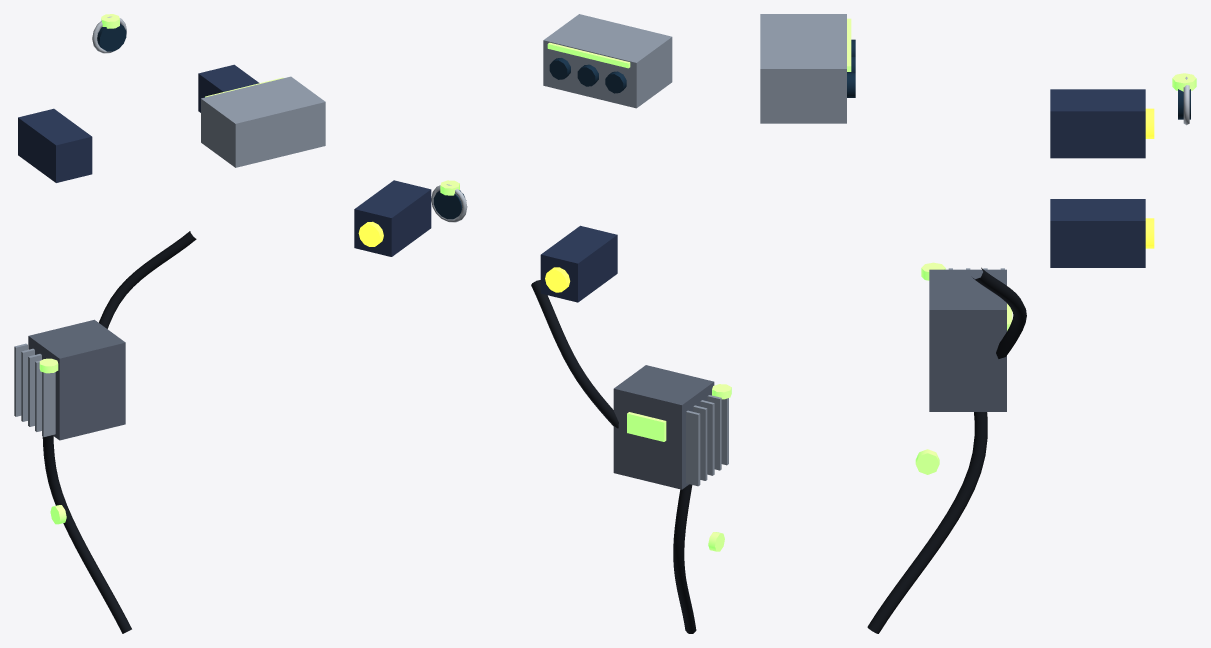
File: tower_detector_analysis_s8.glb
3 views of the same model, side by side, from view 1: azimuth 30°, elevation 25°; view 2: azimuth 150°, elevation 25°; view 3: azimuth 270°, elevation 25° (orthographic). The views are drawn at different scales.
Parts seen in each view (by area): view 1: detector_cluster, detector_recorder, detector_mark_projector_b, detector_recorder_fins, detector_harness_b, detector_harness_a, detector_mark_projector, detector_analysis_lens; view 2: detector_recorder, detector_cluster, detector_mark_projector_b, detector_mark_projector, detector_recorder_fins, detector_harness_a, detector_harness_b, detector_recorder_face, detector_analysis_lens, detector_cluster_bar; view 3: detector_recorder, detector_cluster, detector_mark_projector_b, detector_mark_projector, detector_harness_b, detector_harness_a.
Part boxes in pixels (x1=…): detector_cluster: x1=201, y1=76, x2=325, y2=167; detector_recorder: x1=28, y1=319, x2=125, y2=440; detector_mark_projector_b: x1=18, y1=108, x2=92, y2=182; detector_recorder_fins: x1=14, y1=343, x2=55, y2=436; detector_harness_b: x1=42, y1=435, x2=131, y2=633; detector_harness_a: x1=99, y1=231, x2=196, y2=328; detector_mark_projector: x1=198, y1=64, x2=259, y2=112; detector_analysis_lens: x1=97, y1=23, x2=126, y2=51; detector_recorder: x1=613, y1=365, x2=714, y2=489; detector_cluster: x1=543, y1=14, x2=672, y2=108; detector_mark_projector_b: x1=540, y1=225, x2=617, y2=302; detector_mark_projector: x1=354, y1=180, x2=431, y2=256; detector_recorder_fins: x1=686, y1=395, x2=728, y2=486; detector_harness_a: x1=531, y1=280, x2=618, y2=428; detector_harness_b: x1=673, y1=484, x2=696, y2=633; detector_recorder_face: x1=627, y1=412, x2=666, y2=441; detector_analysis_lens: x1=433, y1=190, x2=466, y2=219; detector_cluster_bar: x1=547, y1=42, x2=630, y2=68; detector_recorder: x1=929, y1=269, x2=1006, y2=411; detector_cluster: x1=760, y1=14, x2=846, y2=123; detector_mark_projector_b: x1=1050, y1=89, x2=1145, y2=158; detector_mark_projector: x1=1050, y1=199, x2=1145, y2=267; detector_harness_b: x1=867, y1=412, x2=987, y2=633; detector_harness_a: x1=972, y1=267, x2=1026, y2=358.
Size of the model in its own units: 0.928 by 1.68 by 1.01.
